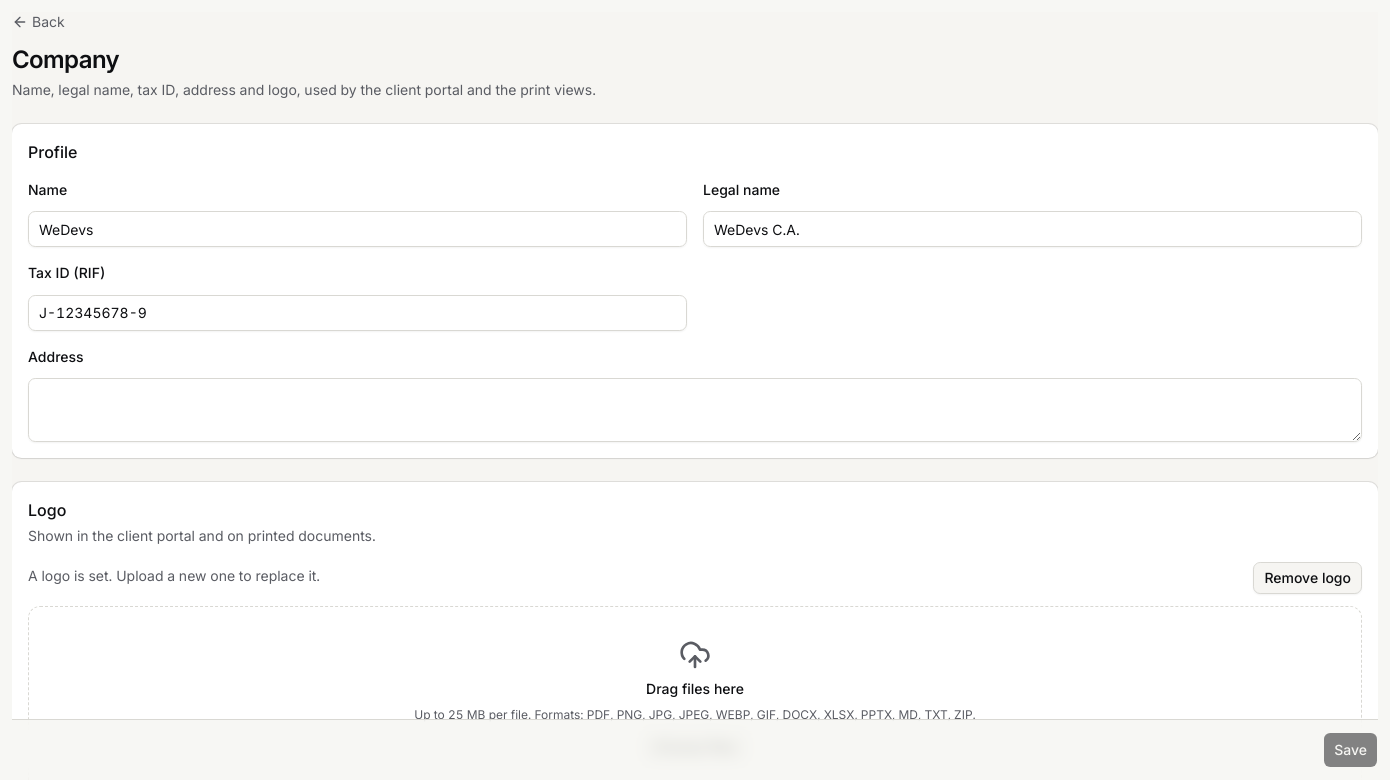
CompanySettingsForm (PRD §8.15 Empresa) › requires a name
The image size is (1390, 780).
Clear the field labelled "Name" at (358, 229), box [28,211,687,247]
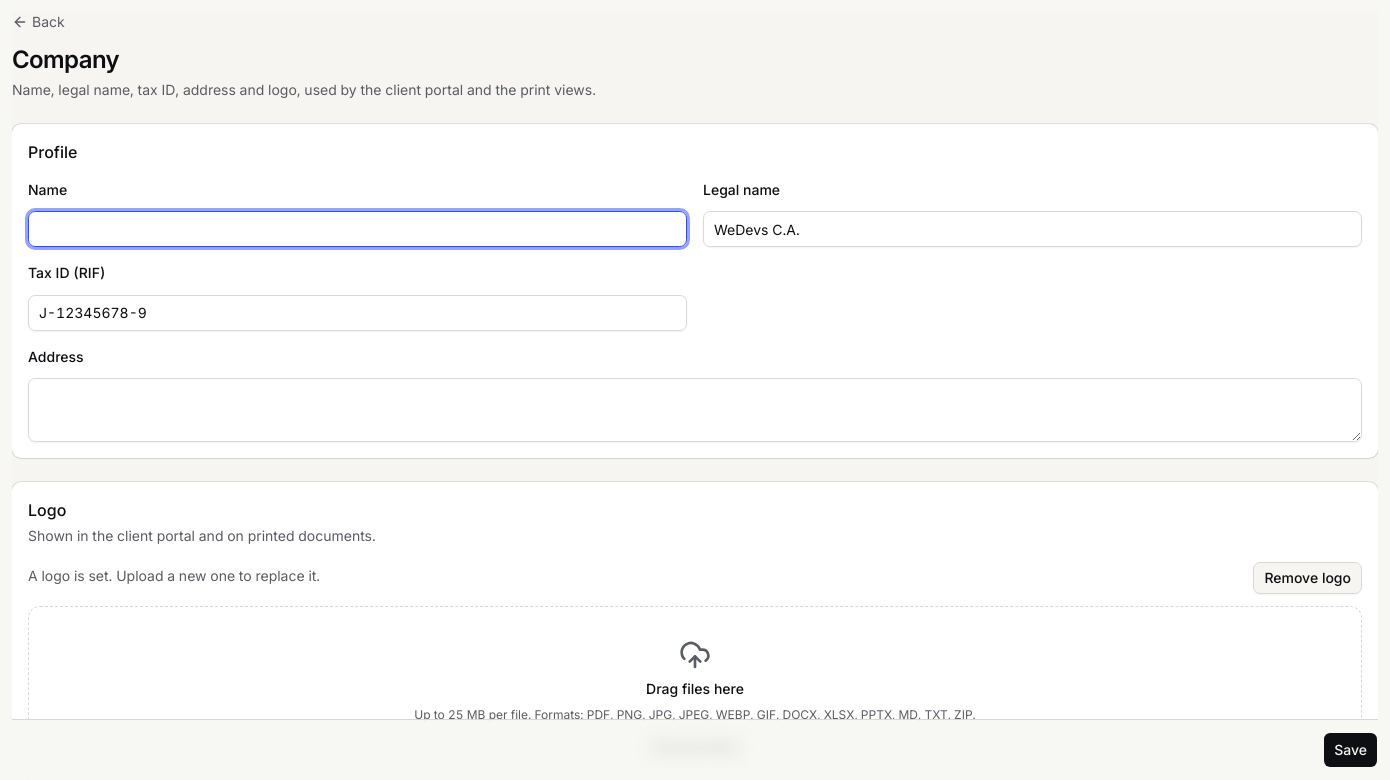
Click the button "Save" at (1351, 750), box [1323,732,1378,768]
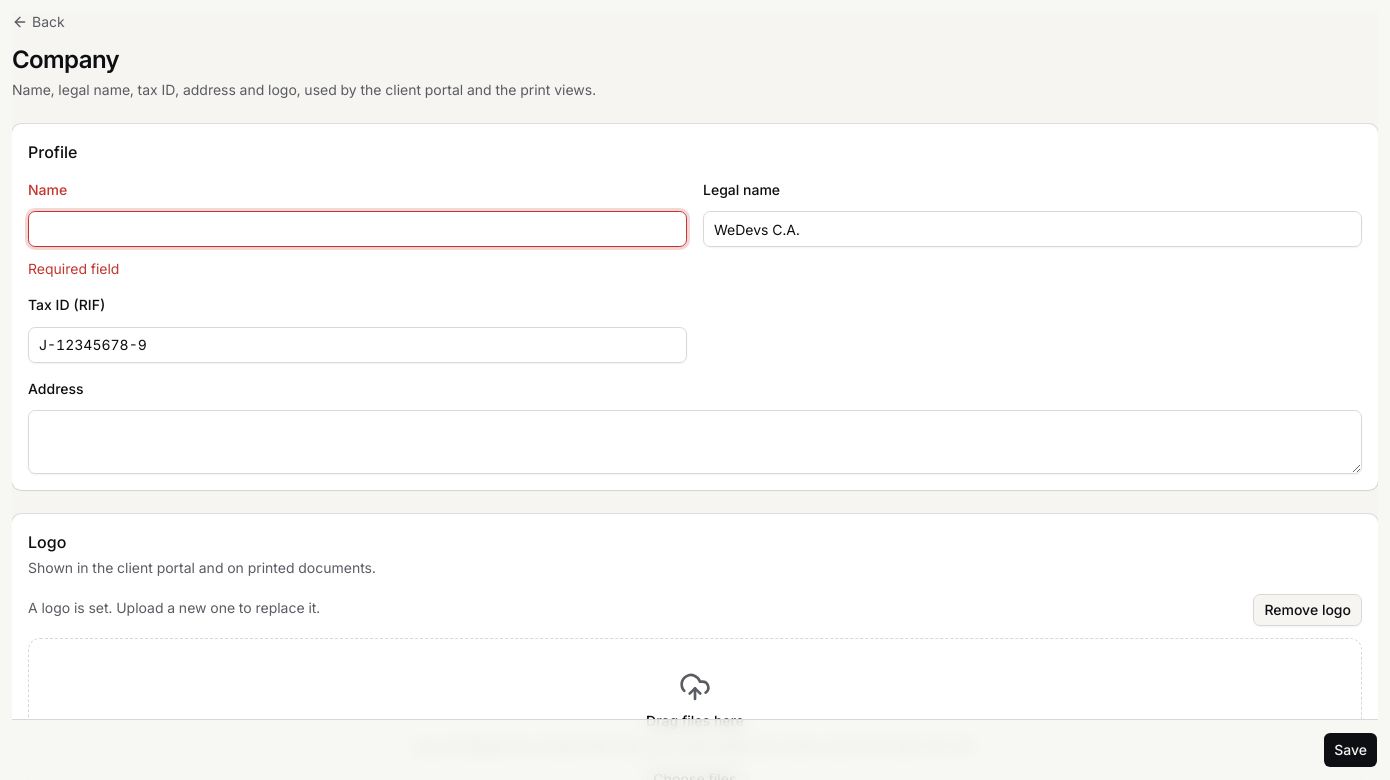
Now the text "Required field" is shown, box [28,260,119,277]
